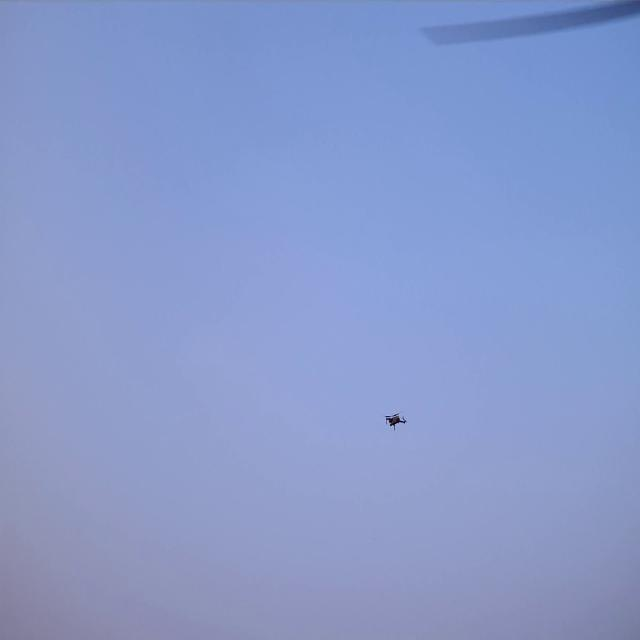UAV: (386, 413, 405, 430)
